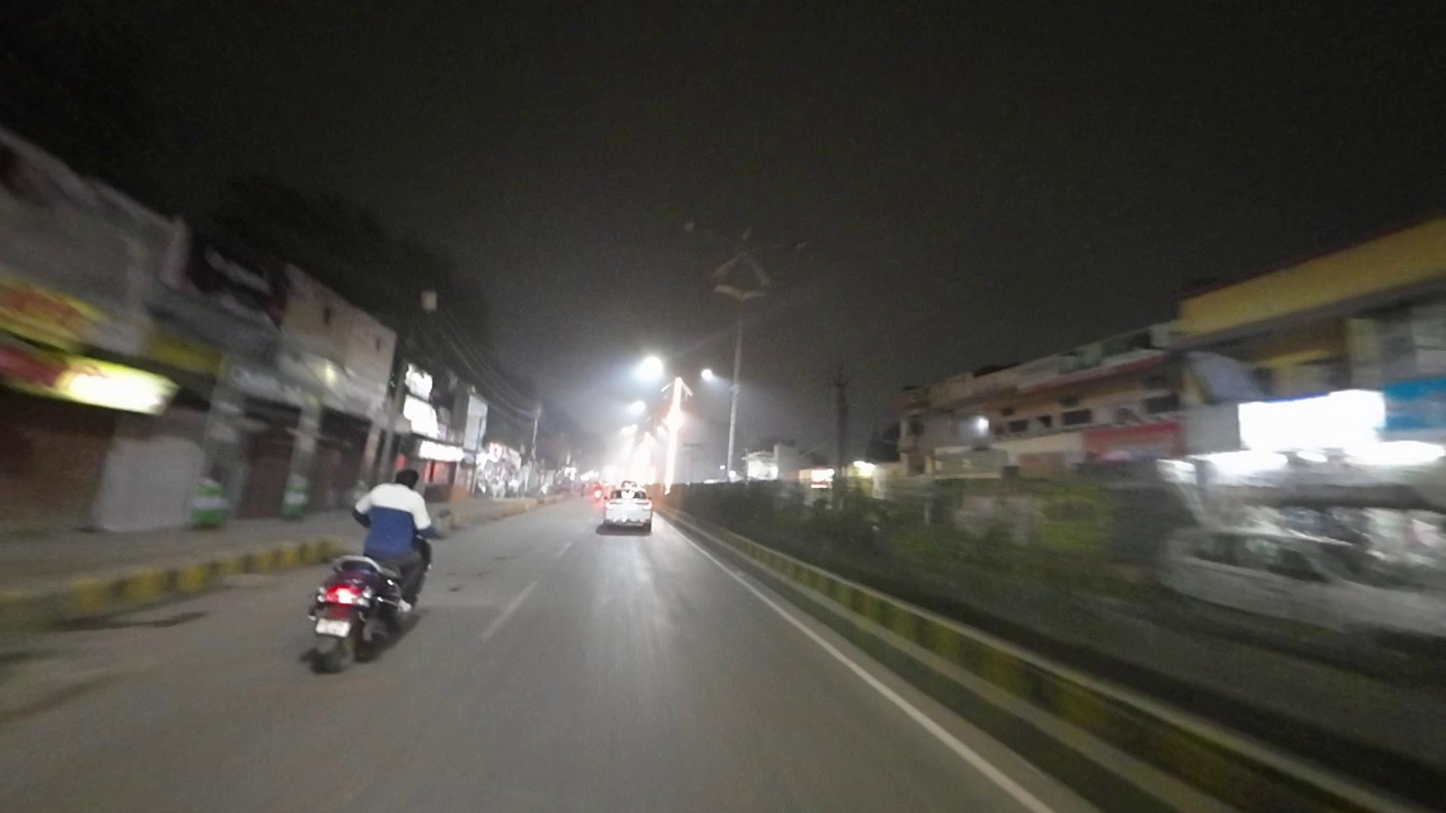streetlight: (679, 218, 739, 247), (753, 236, 814, 258)
